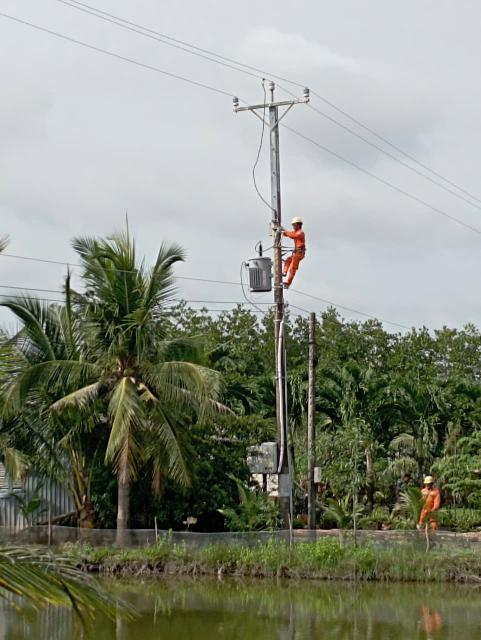harness: (289, 245, 308, 255)
helmet: (420, 475, 437, 486), (289, 218, 305, 226)
shoes: (279, 280, 291, 288), (280, 272, 288, 277)
